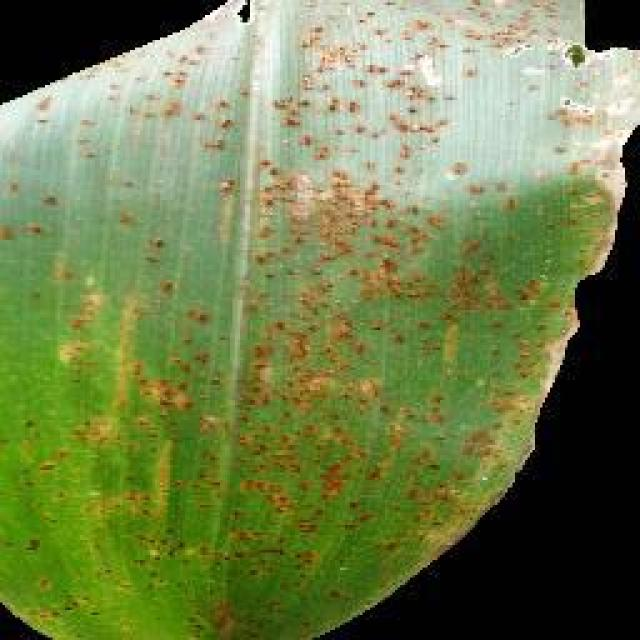Corn Common Rust: (106, 55, 482, 585)
